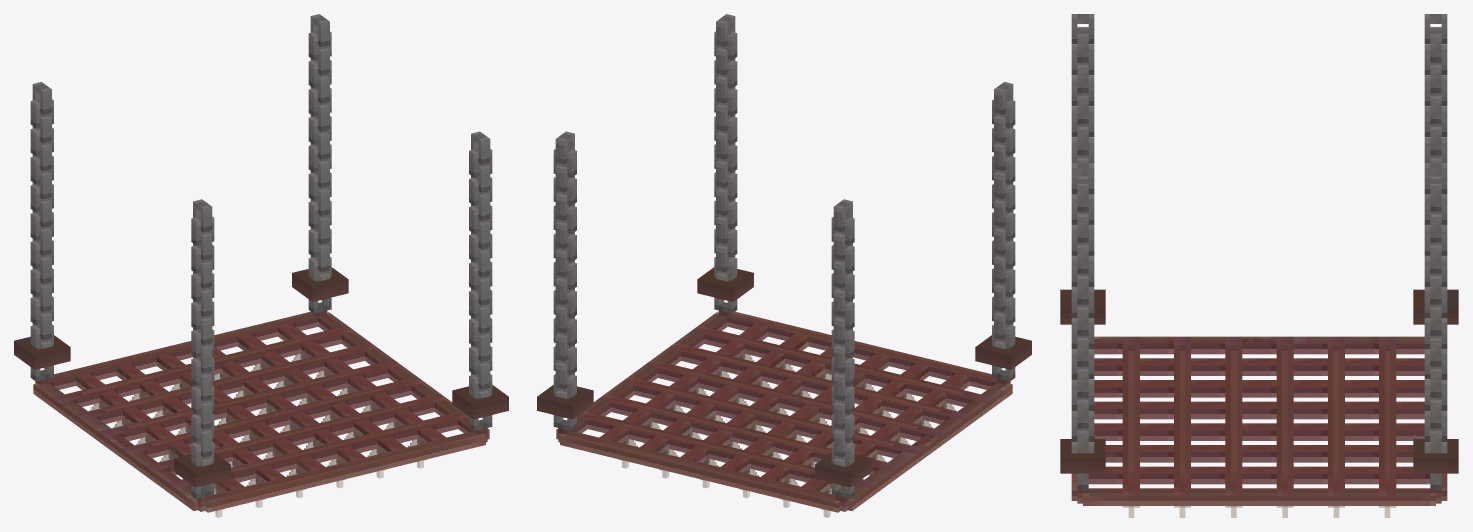
The model's file is trap-12.glb.
The picture shows the model from 3 angles, left to right: view 1: azimuth 30°, elevation 25°; view 2: azimuth 150°, elevation 25°; view 3: azimuth 270°, elevation 25°; orthographic projection. The views are drawn at different scales.
Visible parts, largest first — view 1: base12-Local; view 2: base12-Local; view 3: base12-Local.
Part boxes in pixels (bbox=[...]): base12-Local: bbox=[14, 14, 508, 517]; base12-Local: bbox=[537, 14, 1031, 517]; base12-Local: bbox=[1060, 14, 1458, 517].
Size of the model in its own units: 1 by 1.03 by 1.
Materials: 3 (3 with a texture image).
